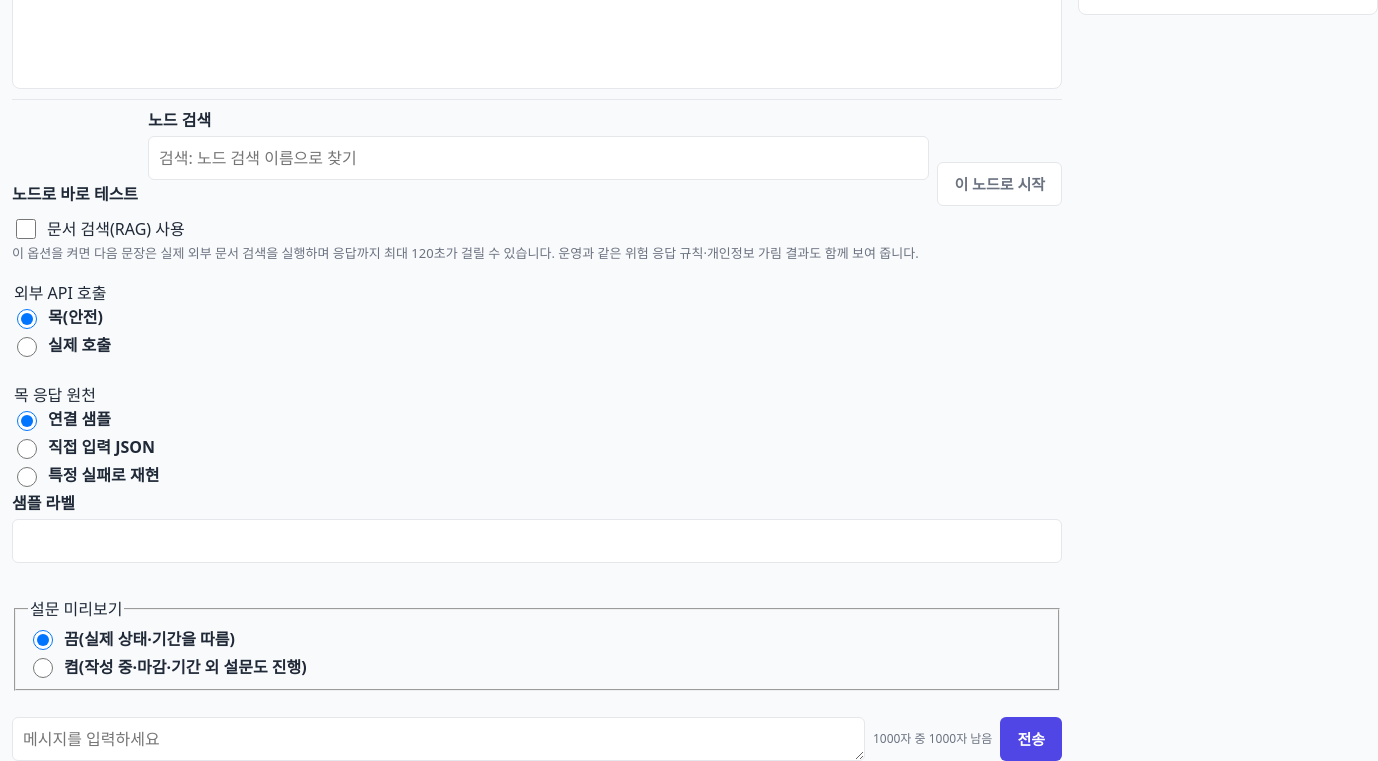
Test case: SimulatorPanel — 바로연결 칩 사용 후 숨김(RM-6, D-4) › 칩을 누르지 않고 직접 입력해 전송해도 칩 묶음이 사라진다
This screenshot has width=1378, height=761.
(page scrolled)
Type "안녕하세요" into the text box named "메시지 입력" at (438, 739), box [12, 717, 865, 760]
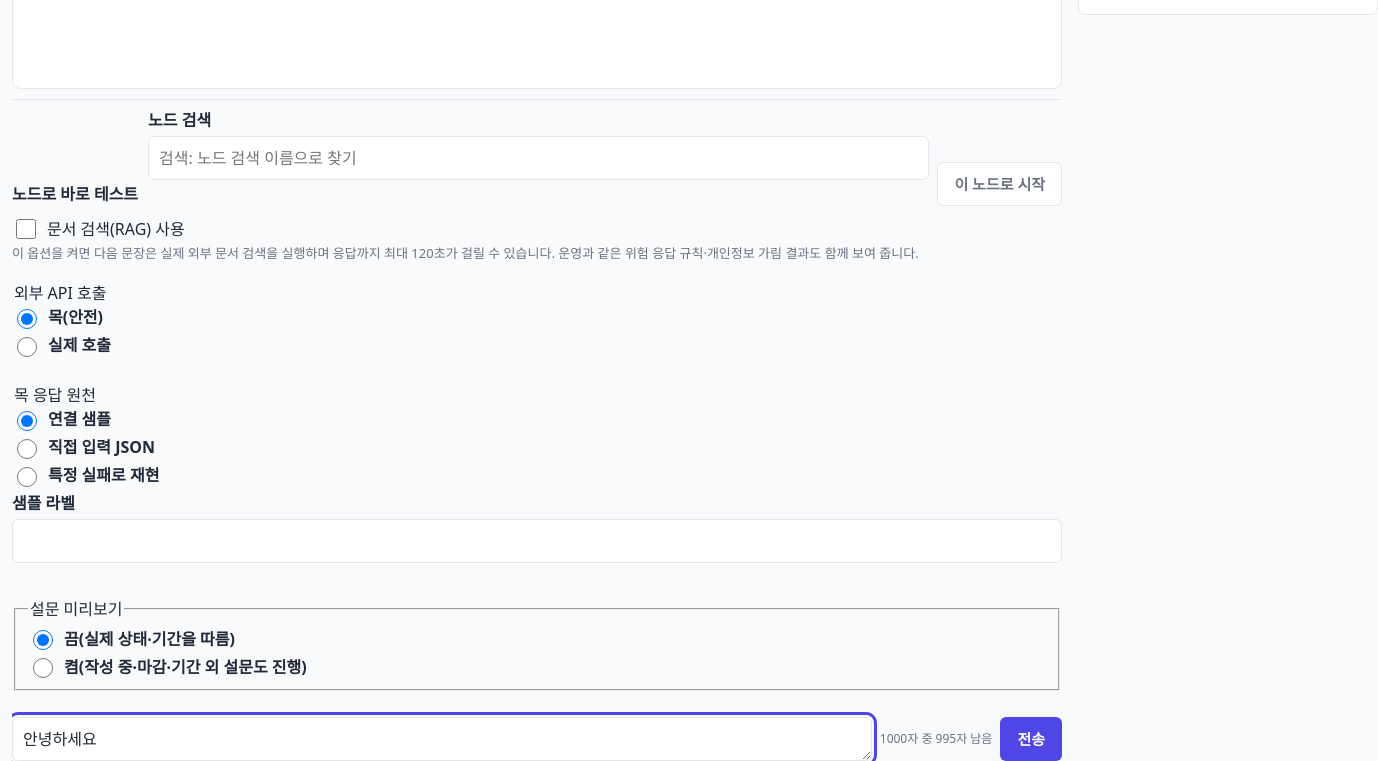
Click the button "전송" at (1031, 739), box [1000, 717, 1062, 760]
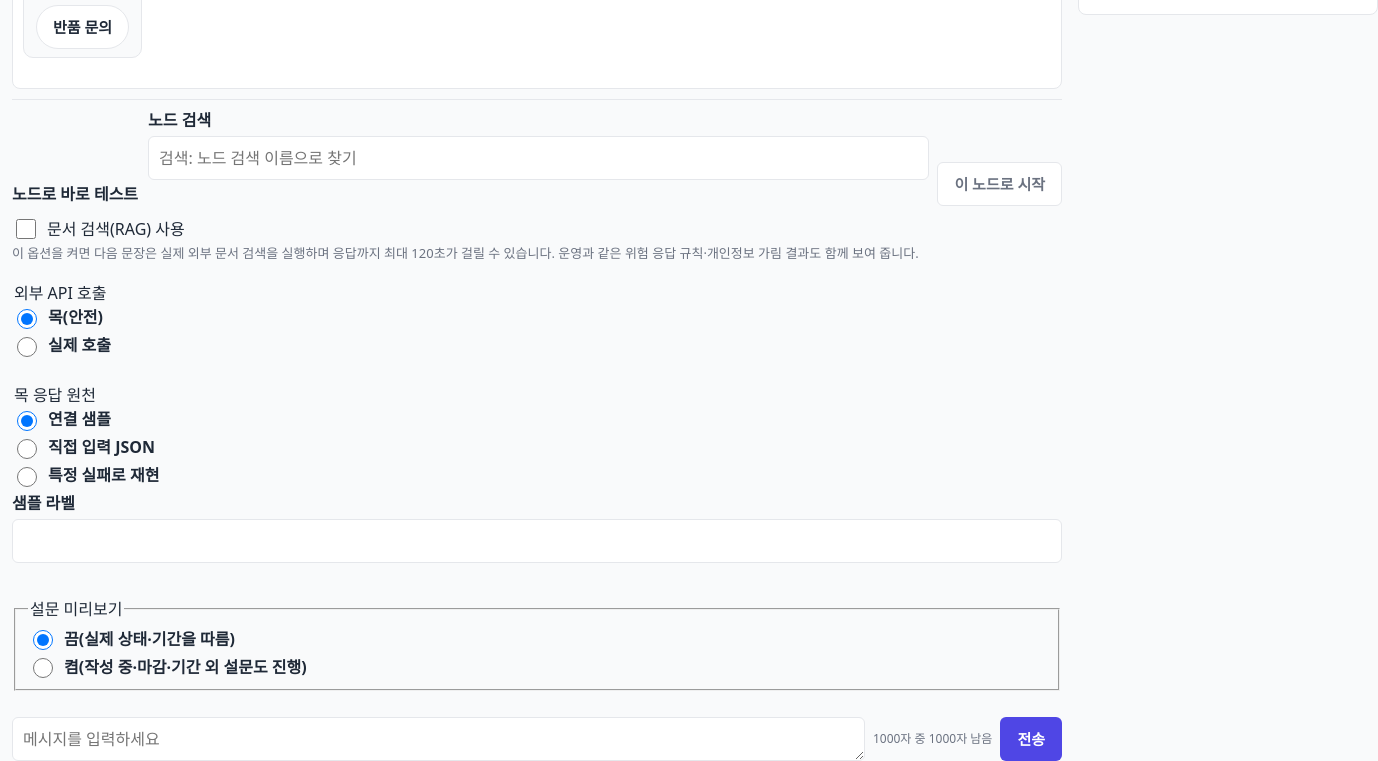
expect the button "반품 문의" is shown: met, box [36, 4, 129, 48]
Type "직접 입력했어요" into the text box named "메시지 입력" at (438, 739), box [12, 717, 865, 760]
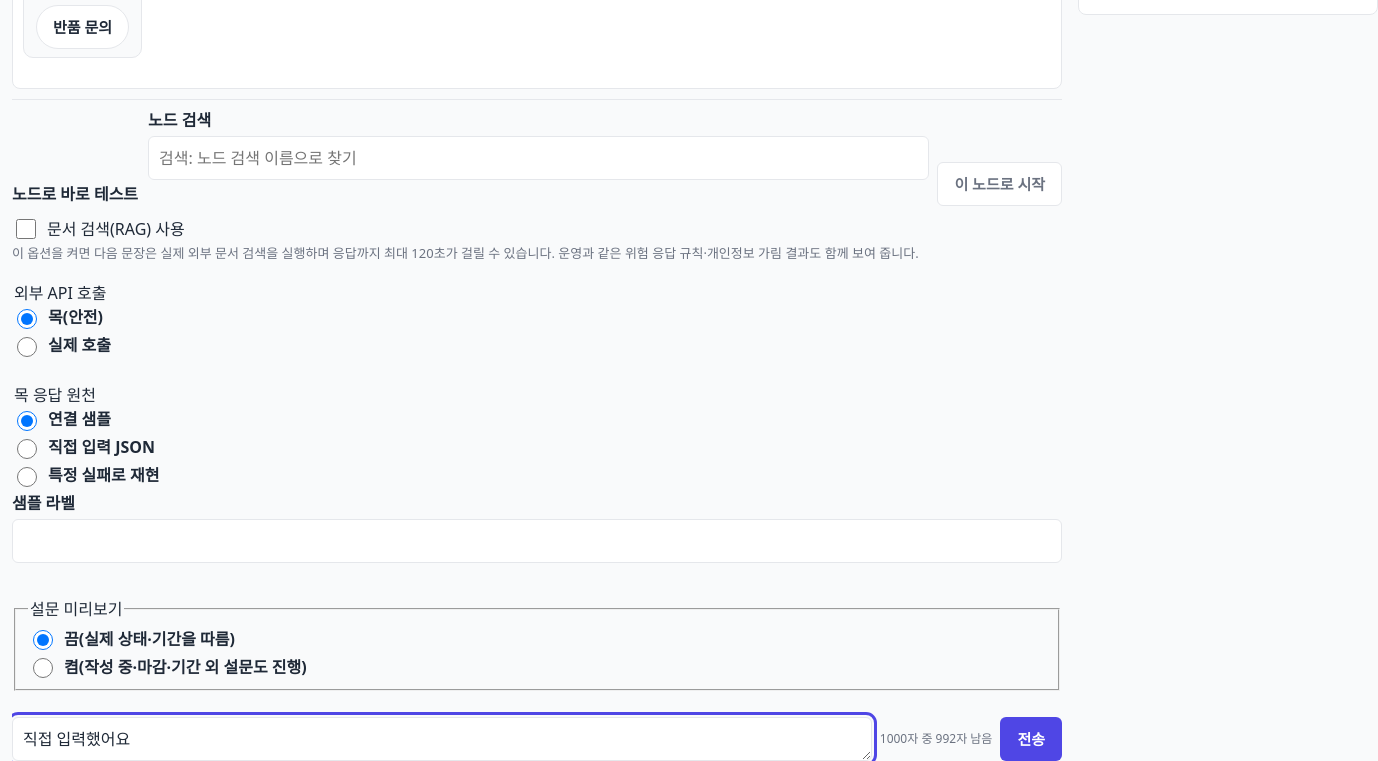
Click the button "전송" at (1031, 739), box [1000, 717, 1062, 760]
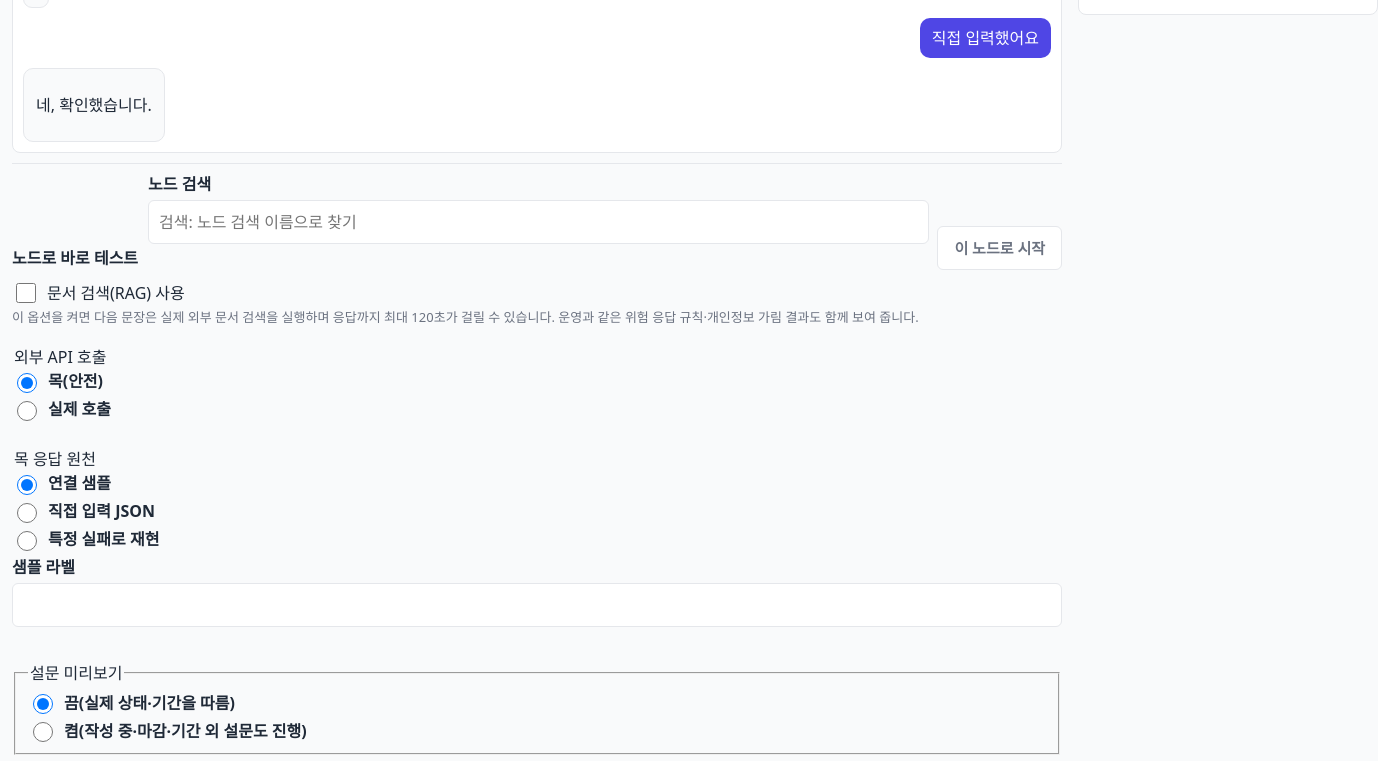
expect the text "네, 확인했습니다." is shown: met, box [36, 92, 152, 116]
expect the button "반품 문의" is gone: met
